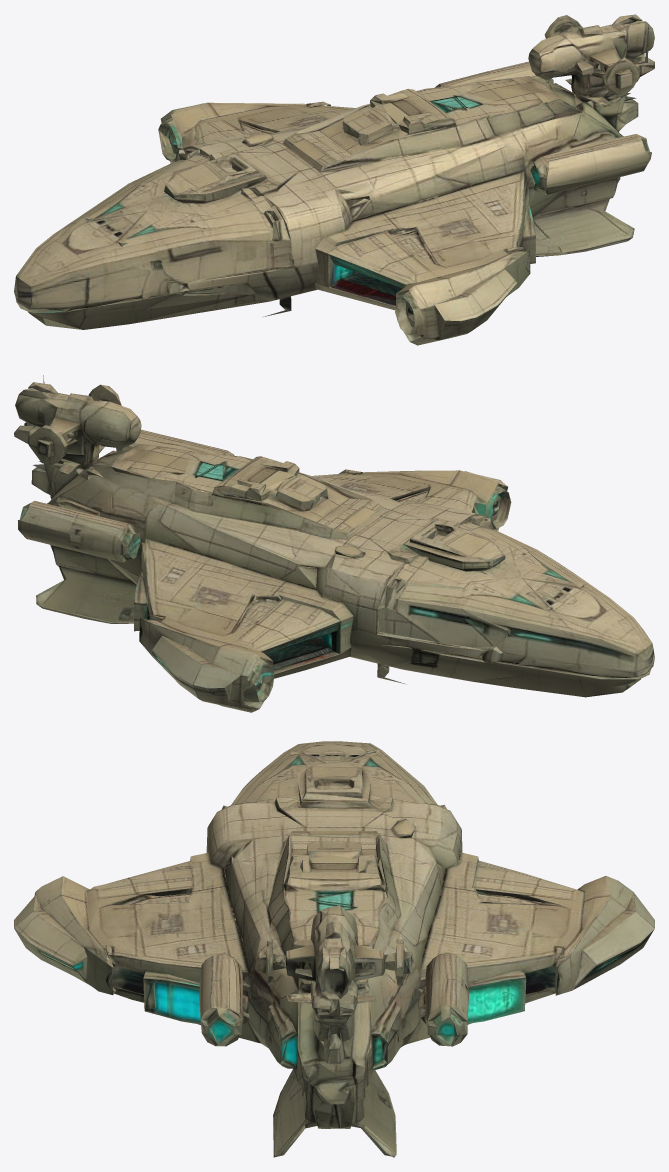
Rendered from nation-h-cruiser.glb.
The picture shows the model from 3 angles, top to bottom: view 1: azimuth 30°, elevation 25°; view 2: azimuth 150°, elevation 25°; view 3: azimuth 270°, elevation 25°; orthographic projection. The views are drawn at different scales.
Size of the model in its own units: 1.9 by 0.5702 by 1.47.
Materials: 1 (1 with a texture image).
